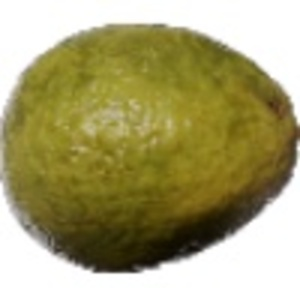goiaba: (6, 25, 295, 270)
